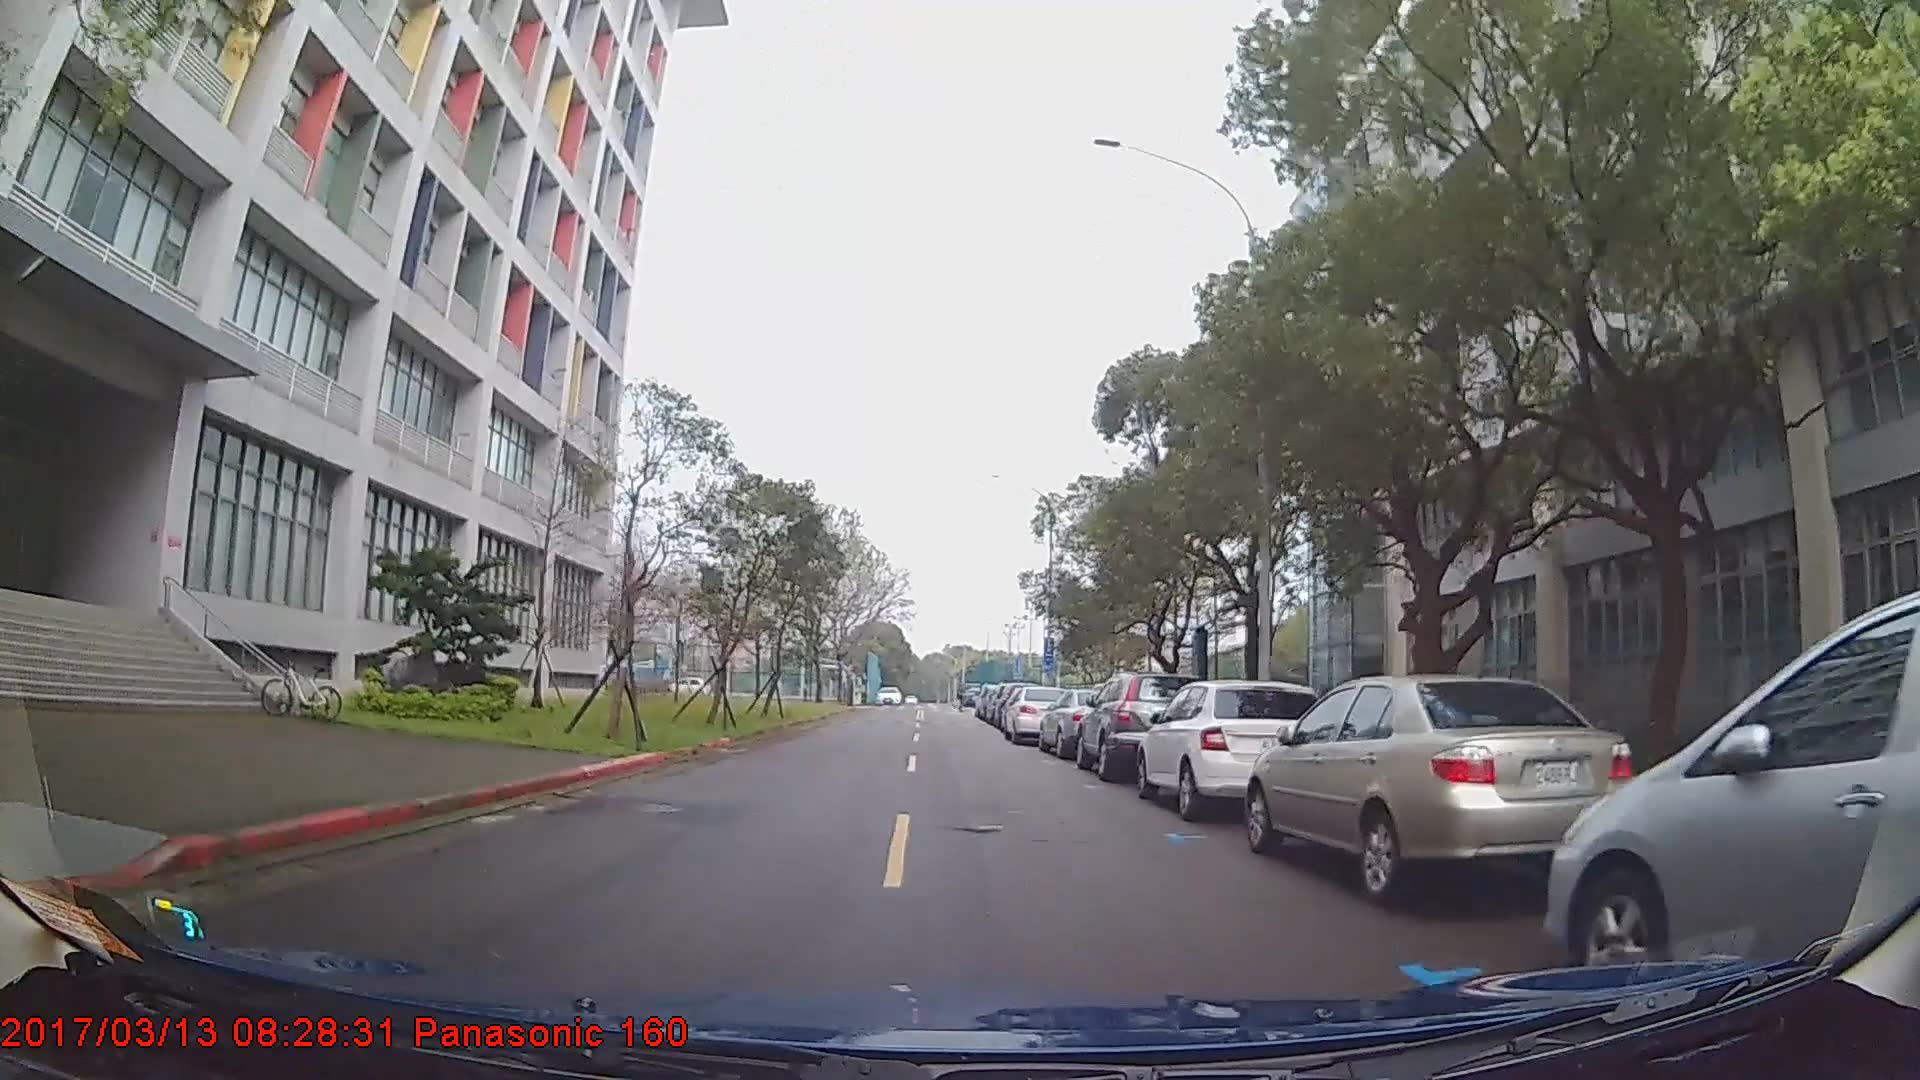vehicle: (1544, 585, 1920, 1009), (1245, 671, 1630, 902), (1135, 680, 1328, 820), (1072, 673, 1207, 782), (1036, 686, 1125, 760), (1000, 684, 1069, 744)
